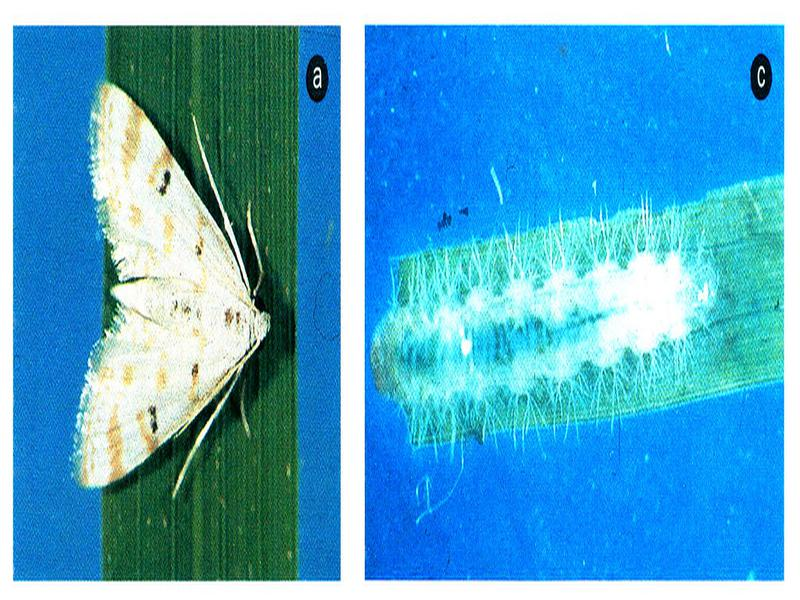Rice_case_worm: (68, 82, 273, 486), (377, 228, 710, 418)
